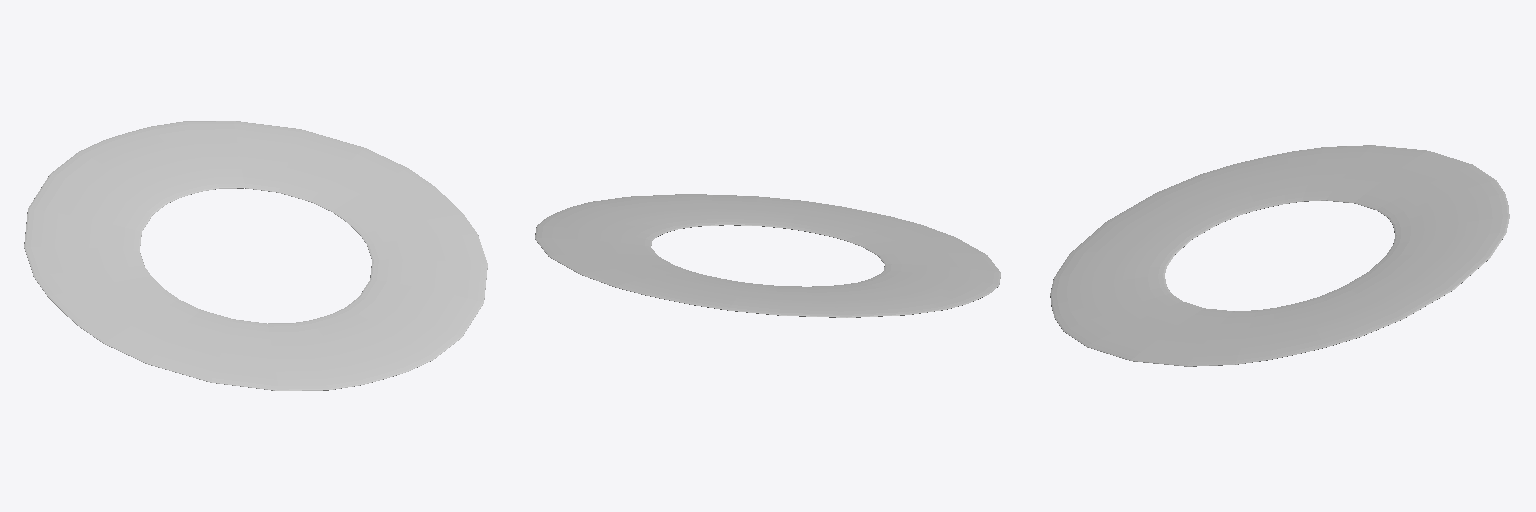
File: saturnRing.obj
The picture shows the model from 3 angles: view 1: azimuth 30°, elevation 25°; view 2: azimuth 150°, elevation 25°; view 3: azimuth 270°, elevation 25°; orthographic projection.
Parts seen in each view (by area): view 1: SurfTorus; view 2: SurfTorus; view 3: SurfTorus.
Boxes of the visible parts, x1=… form: SurfTorus: x1=24, y1=121, x2=487, y2=390; SurfTorus: x1=535, y1=194, x2=1000, y2=317; SurfTorus: x1=1050, y1=145, x2=1509, y2=366.
Size of the model in its own units: 8.1 by 1.65 by 7.94.